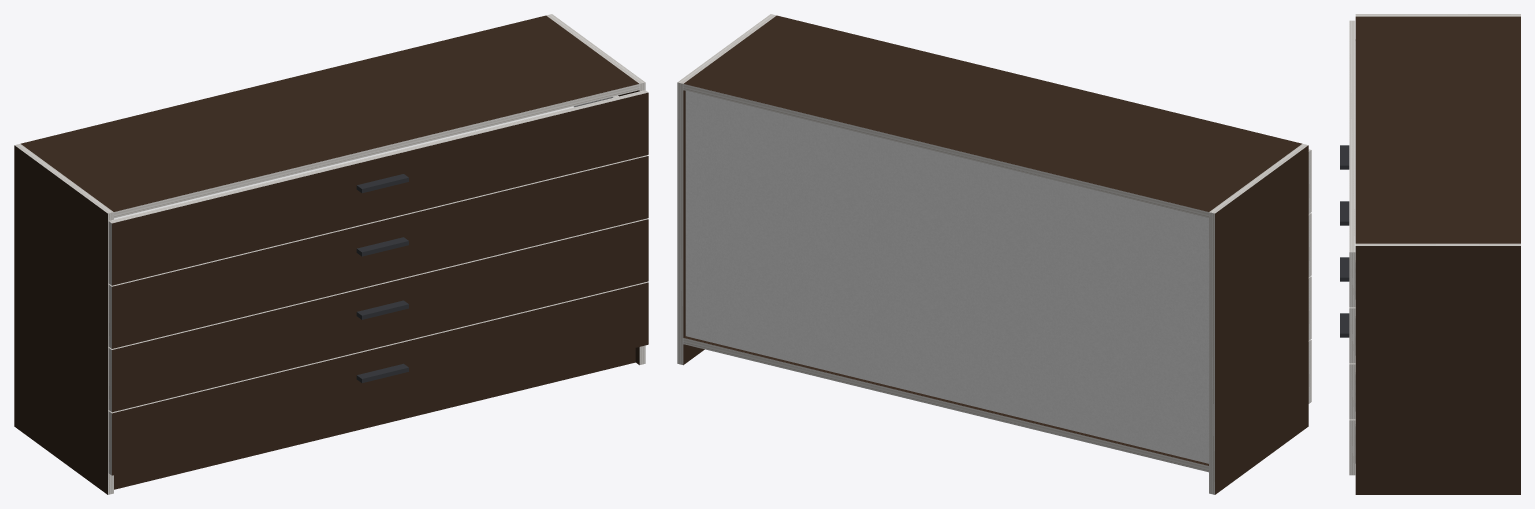
The model's file is BIB-DRS-wide.glb.
3 views of the same model, side by side, from view 1: azimuth 30°, elevation 25°; view 2: azimuth 150°, elevation 25°; view 3: azimuth 270°, elevation 25° (orthographic). The views are drawn at different scales.
Parts seen in each view (by area): view 1: top:pbr, d3-front:pbr, d1-front:pbr, d4-front:pbr, d2-front:pbr, side-l:pbr, plinth:pbr, top:sheet:eyJtIjoicGx5Iiwic2lkZSI6ImVkZ2UtbG9uZyIsInNlZWQiOj, d4-front:sheet:eyJtIjoicGx5Iiwic2lkZSI6ImVkZ2UtbG9uZyIsInNlZ, pull, d2-front:sheet:eyJtIjoicGx5Iiwic2lkZSI6ImVkZ2UtbG9uZyIsInNlZ, d3-front:sheet:eyJtIjoicGx5Iiwic2lkZSI6ImVkZ2UtbG9uZyIsInNlZ (+2 smaller); view 2: back:sheet:eyJtIjoibWRmIiwic2lkZSI6ImZhY2UiLCJzZWVkIjo0LCJ0a, top:pbr, side-l:pbr, top:sheet:eyJtIjoicGx5Iiwic2lkZSI6ImVkZ2UtbG9uZyIsInNlZWQiOj, bottom:sheet:eyJtIjoicGx5Iiwic2lkZSI6ImVkZ2UtbG9uZyIsInNlZWQ, side-r:sheet:eyJtIjoicGx5Iiwic2lkZSI6ImVkZ2UtbG9uZyIsInNlZWQ, side-l:sheet:eyJtIjoicGx5Iiwic2lkZSI6ImVkZ2UtbG9uZyIsInNlZWQ, bottom:pbr, side-r:pbr; view 3: side-r:pbr, top:pbr, d4-front:sheet:eyJtIjoicGx5Iiwic2lkZSI6ImVkZ2UtbG9uZyIsInNlZ, pull, side-l:sheet:eyJtIjoicGx5Iiwic2lkZSI6ImVkZ2UtZW5kIiwic2VlZCI, side-r:sheet:eyJtIjoicGx5Iiwic2lkZSI6ImVkZ2UtZW5kIiwic2VlZCI, d1-front:sheet:eyJtIjoicGx5Iiwic2lkZSI6ImVkZ2UtZW5kIiwic2VlZ, d2-front:sheet:eyJtIjoicGx5Iiwic2lkZSI6ImVkZ2UtZW5kIiwic2VlZ, d3-front:sheet:eyJtIjoicGx5Iiwic2lkZSI6ImVkZ2UtZW5kIiwic2VlZ, d4-front:sheet:eyJtIjoicGx5Iiwic2lkZSI6ImVkZ2UtZW5kIiwic2VlZ, d4-box-front:sheet:eyJtIjoicGx5Iiwic2lkZSI6ImVkZ2UtbG9uZyIsI.
Part boxes in pixels (x1,y1,x2,y2): top:pbr: (21,15,638,211); d3-front:pbr: (112,156,648,348); d1-front:pbr: (112,282,648,475); d4-front:pbr: (112,92,648,285); d2-front:pbr: (112,219,648,412); side-l:pbr: (14,145,107,494); plinth:pbr: (114,348,635,489); top:sheet:eyJtIjoicGx5Iiwic2lkZSI6ImVkZ2UtbG9uZyIsInNlZWQiOj: (114,84,639,218); d4-front:sheet:eyJtIjoicGx5Iiwic2lkZSI6ImVkZ2UtbG9uZyIsInNlZ: (109,90,648,223); pull: (356,174,408,382); d2-front:sheet:eyJtIjoicGx5Iiwic2lkZSI6ImVkZ2UtbG9uZyIsInNlZ: (109,218,648,349); d3-front:sheet:eyJtIjoicGx5Iiwic2lkZSI6ImVkZ2UtbG9uZyIsInNlZ: (109,155,648,286); back:sheet:eyJtIjoibWRmIiwic2lkZSI6ImZhY2UiLCJzZWVkIjo0LCJ0a: (685,91,1208,463); top:pbr: (684,15,1301,211); side-l:pbr: (1215,145,1308,494); top:sheet:eyJtIjoicGx5Iiwic2lkZSI6ImVkZ2UtbG9uZyIsInNlZWQiOj: (683,84,1208,218); bottom:sheet:eyJtIjoicGx5Iiwic2lkZSI6ImVkZ2UtbG9uZyIsInNlZWQ: (683,338,1208,472); side-r:sheet:eyJtIjoicGx5Iiwic2lkZSI6ImVkZ2UtbG9uZyIsInNlZWQ: (677,82,683,364); side-l:sheet:eyJtIjoicGx5Iiwic2lkZSI6ImVkZ2UtbG9uZyIsInNlZWQ: (1209,212,1214,494); bottom:pbr: (683,336,1208,465); side-r:pbr: (683,90,704,364); side-r:pbr: (1355,246,1520,494); top:pbr: (1355,16,1520,243); d4-front:sheet:eyJtIjoicGx5Iiwic2lkZSI6ImVkZ2UtbG9uZyIsInNlZ: (1349,20,1355,252); pull: (1340,145,1349,337); side-l:sheet:eyJtIjoicGx5Iiwic2lkZSI6ImVkZ2UtZW5kIiwic2VlZCI: (1355,14,1520,16); side-r:sheet:eyJtIjoicGx5Iiwic2lkZSI6ImVkZ2UtZW5kIiwic2VlZCI: (1355,243,1520,245); d1-front:sheet:eyJtIjoicGx5Iiwic2lkZSI6ImVkZ2UtZW5kIiwic2VlZ: (1349,420,1355,475); d2-front:sheet:eyJtIjoicGx5Iiwic2lkZSI6ImVkZ2UtZW5kIiwic2VlZ: (1349,364,1355,419); d3-front:sheet:eyJtIjoicGx5Iiwic2lkZSI6ImVkZ2UtZW5kIiwic2VlZ: (1349,308,1355,363); d4-front:sheet:eyJtIjoicGx5Iiwic2lkZSI6ImVkZ2UtZW5kIiwic2VlZ: (1349,252,1355,307); d4-box-front:sheet:eyJtIjoicGx5Iiwic2lkZSI6ImVkZ2UtbG9uZyIsI: (1355,41,1355,259).
Bounding box in the file's own units: 1.6 × 0.8 × 0.527.
Materials: 91 (81 with a texture image).
